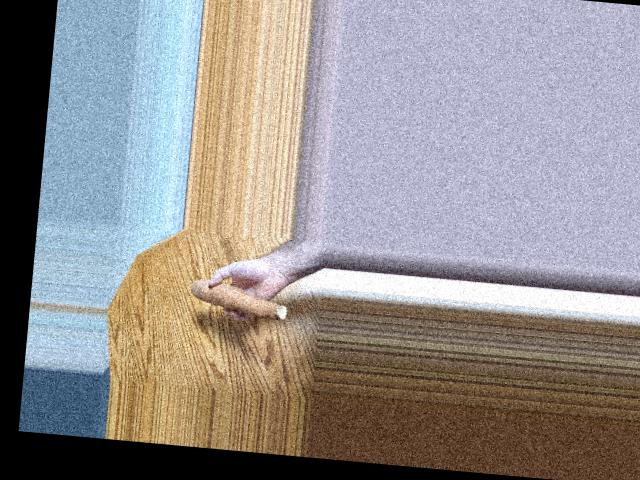sweet_potato: (183, 283, 293, 319)
